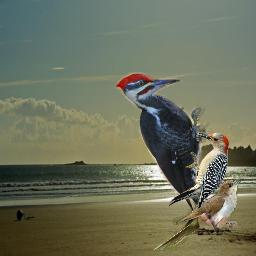Cuckoo: (152, 177, 244, 250)
Woodpecker: (114, 72, 219, 233), (166, 129, 237, 208)
